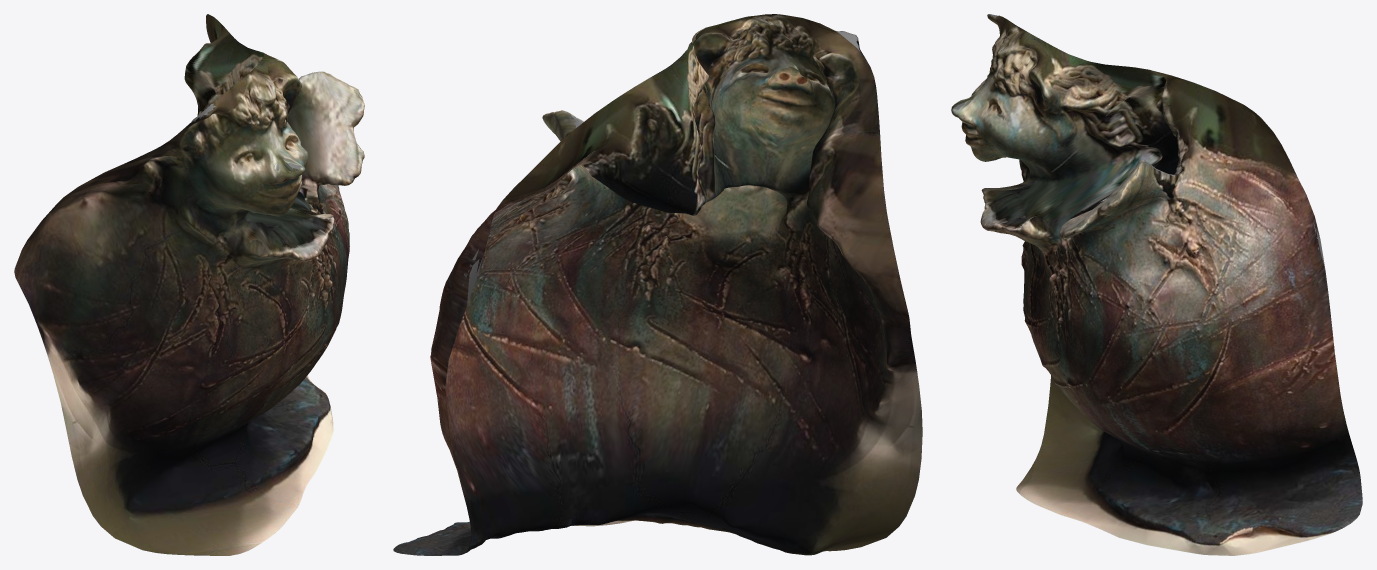
File: knolletje.obj
The picture shows the model from 3 angles, left to right: view 1: azimuth 30°, elevation 25°; view 2: azimuth 150°, elevation 25°; view 3: azimuth 270°, elevation 25°; orthographic projection. The views are drawn at different scales.
Parts seen in each view (by area): view 1: knolletje; view 2: knolletje; view 3: knolletje.
Boxes of the visible parts, bbox=[...] form: knolletje: bbox=[14, 14, 364, 555]; knolletje: bbox=[393, 14, 922, 555]; knolletje: bbox=[951, 14, 1362, 555].
Bounding box in the file's own units: 15.66 × 19.17 × 15.32.
2 materials, 1 textured.
